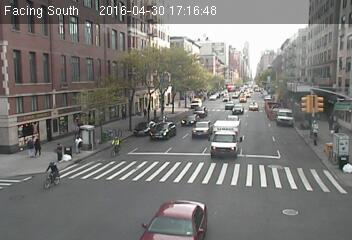neg: (245, 184, 277, 227), (245, 100, 275, 140), (73, 39, 102, 78), (239, 50, 265, 85), (204, 107, 229, 139), (133, 41, 157, 73), (22, 73, 46, 105), (160, 119, 184, 151), (302, 83, 325, 114), (102, 132, 124, 161), (43, 163, 65, 192), (104, 181, 123, 207)
pos: (17, 134, 36, 160), (52, 142, 68, 164), (69, 132, 83, 151), (33, 137, 47, 154)
